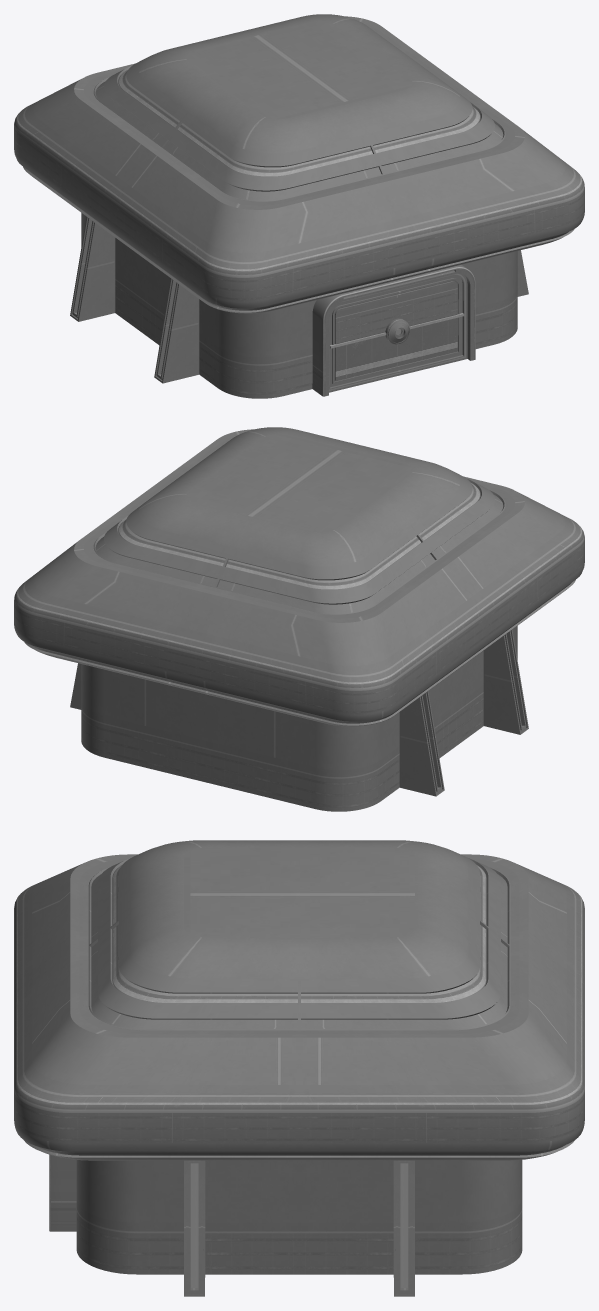
The model's file is SM_house_03.glb.
3 renders of one model, top to bottom at view 1: azimuth 30°, elevation 25°; view 2: azimuth 150°, elevation 25°; view 3: azimuth 270°, elevation 25°, orthographic. The views are drawn at different scales.
Parts seen in each view (by area): view 1: SM_house_03; view 2: SM_house_03; view 3: SM_house_03.
Boxes of the visible parts, x1,y1,x2,y2 form: SM_house_03: [14, 14, 584, 398]; SM_house_03: [14, 427, 584, 811]; SM_house_03: [14, 840, 584, 1296].
Size of the model in its own units: 14.96 by 8.94 by 15.81.
1 material, 1 textured.
